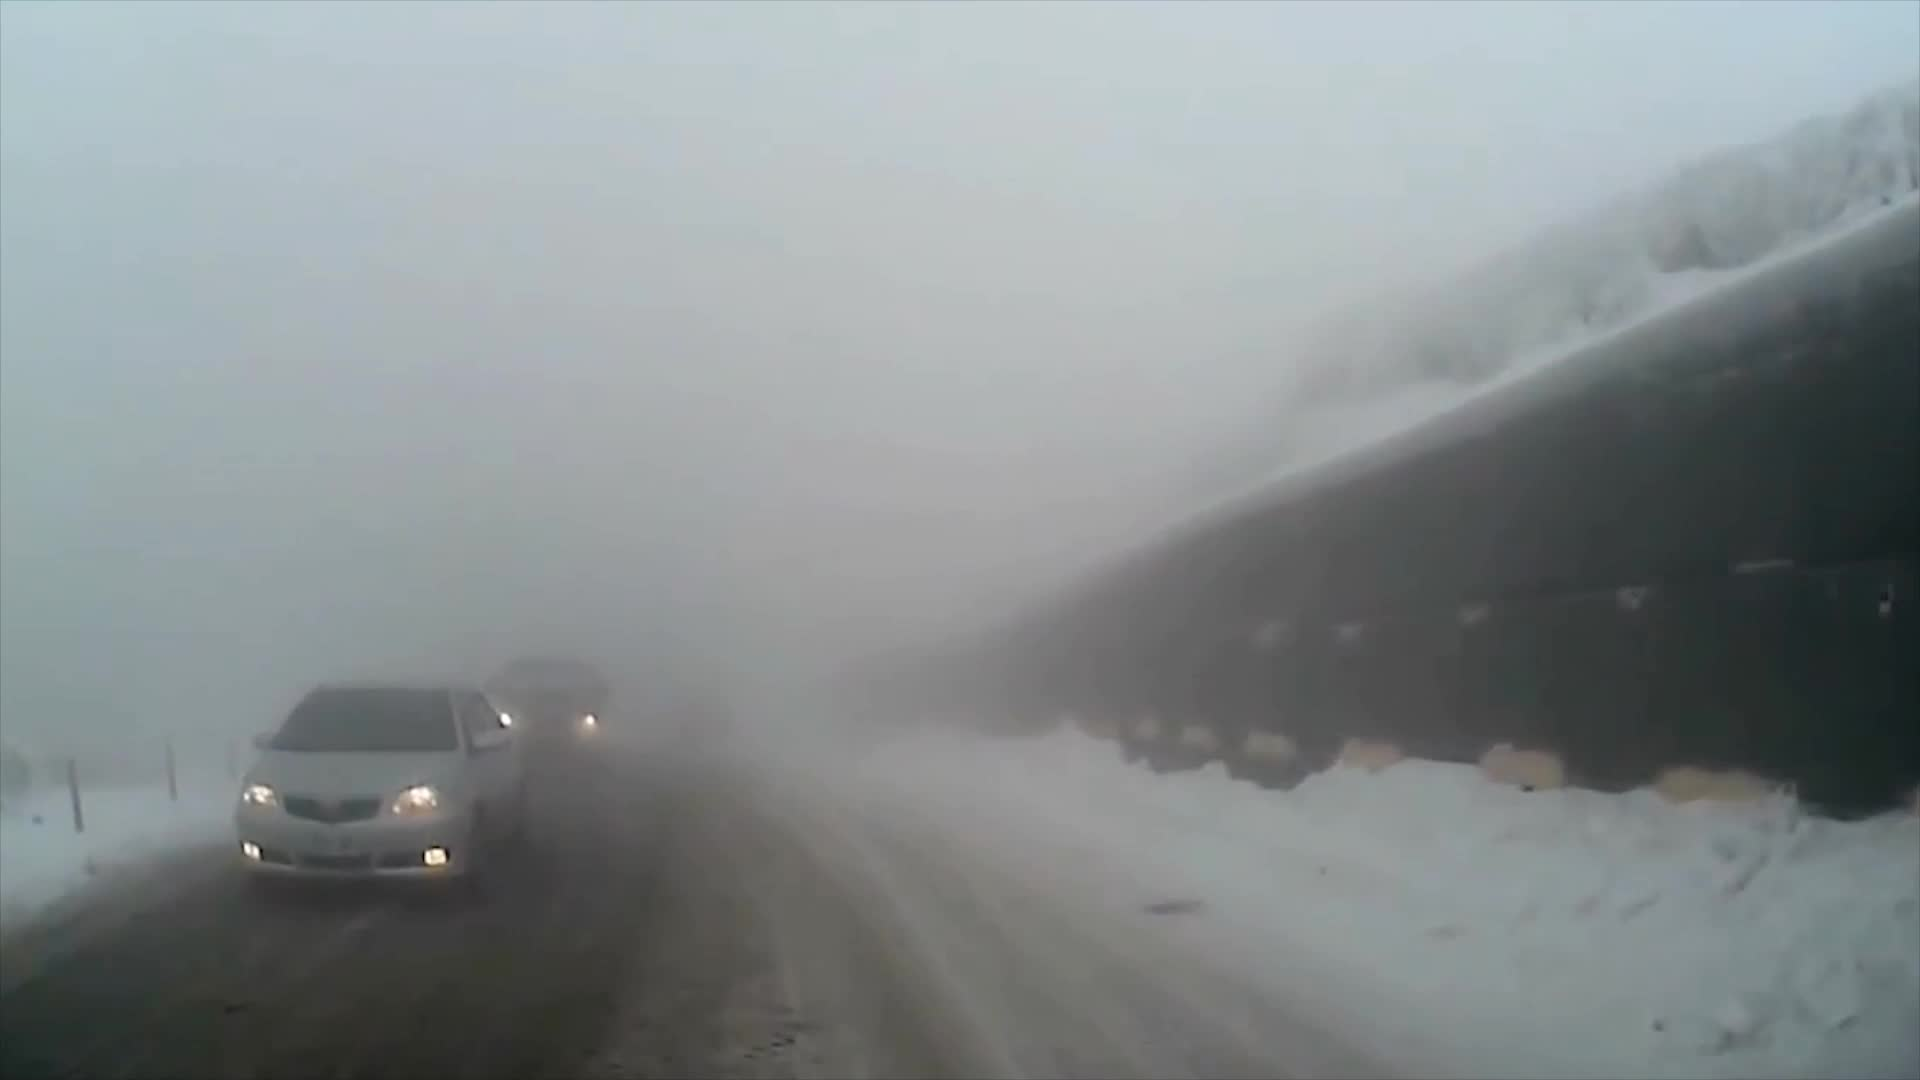vehicle: (233, 675, 527, 903), (485, 654, 611, 774)
